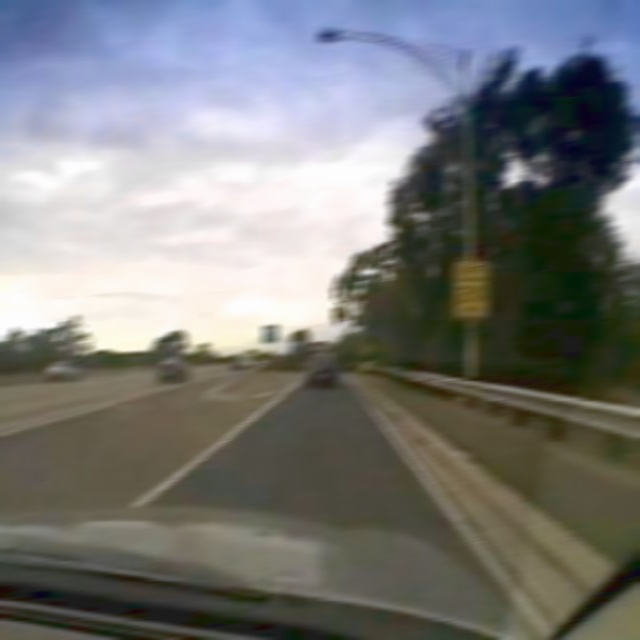rampSpeedAdvisoryUrdbl: (454, 257, 489, 318)
